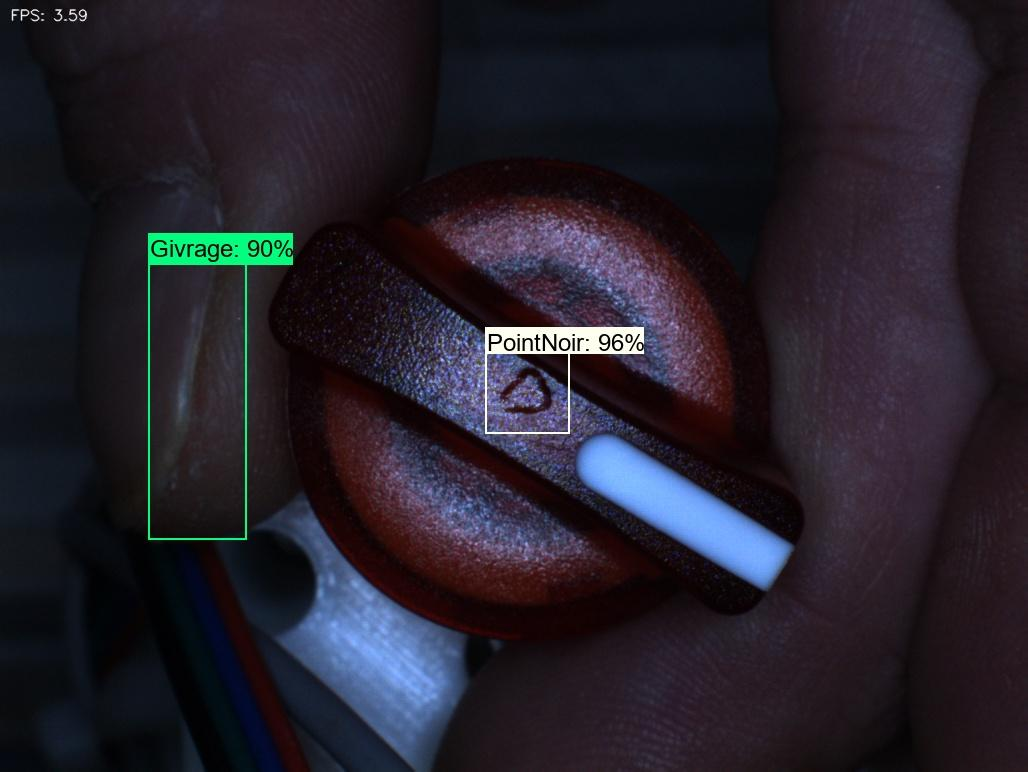Choc: (493, 358, 592, 450)
